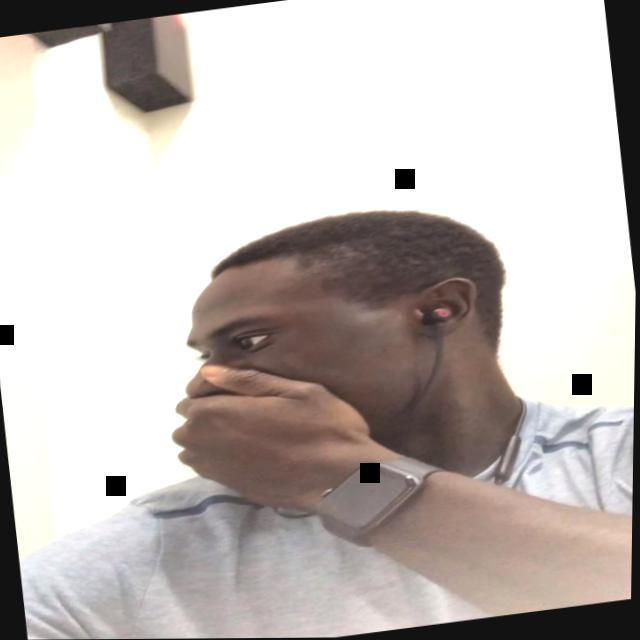NO-Mask: (153, 252, 454, 493)
